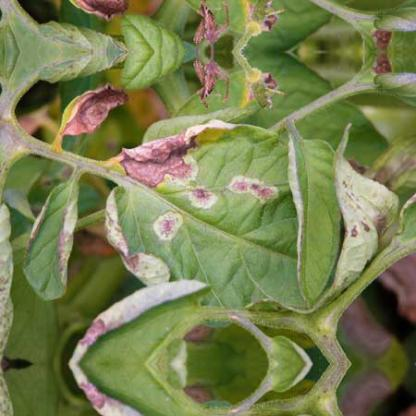Late-Blight: (100, 156, 318, 300), (23, 60, 131, 148), (23, 0, 131, 42)
